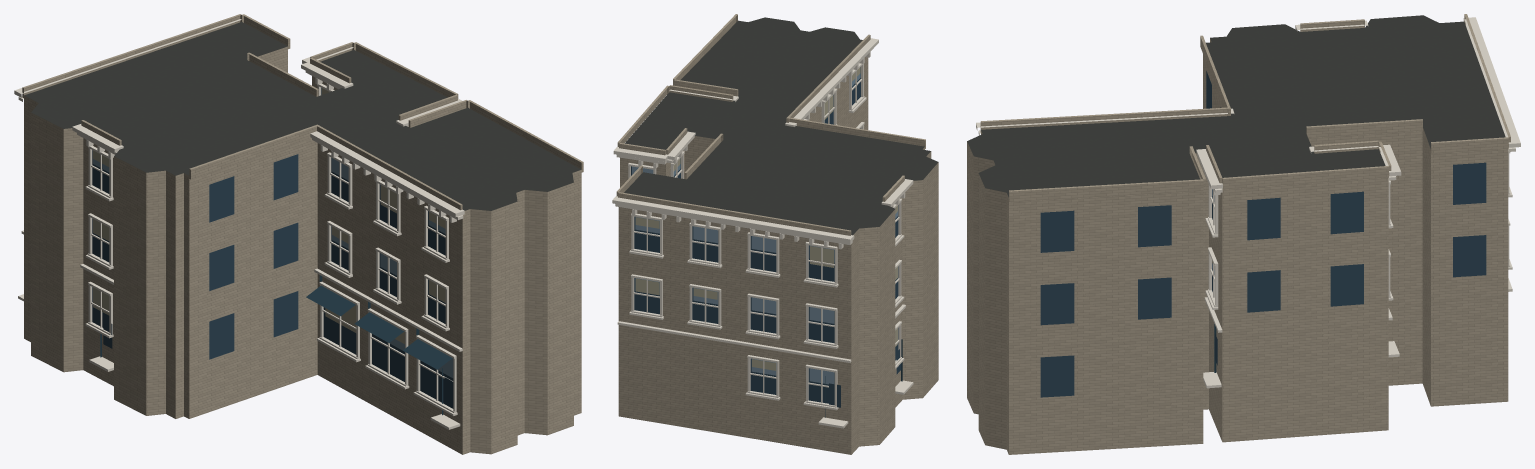
3 renders of one model, left to right at view 1: azimuth 30°, elevation 25°; view 2: azimuth 150°, elevation 25°; view 3: azimuth 270°, elevation 25°, orthographic. The views are drawn at different scales.
Parts seen in each view (by area): view 1: Footprint 0 / surface 2, Footprint 0 / surface 1, Cornices and window frames, Inset glazing, Facade bay volumes, Storefronts and doors, Interior blind variation, Sky reflection panels; view 2: Footprint 0 / surface 2, Footprint 0 / surface 1, Cornices and window frames, Facade bay volumes, Inset glazing, Sky reflection panels, Interior blind variation; view 3: Footprint 0 / surface 2, Footprint 0 / surface 1, Inset glazing, Facade bay volumes, Cornices and window frames.
Boxes of the visible parts, x1=… form: Footprint 0 / surface 2: x1=24, y1=46, x2=581, y2=454; Footprint 0 / surface 1: x1=24, y1=22, x2=581, y2=210; Cornices and window frames: x1=14, y1=19, x2=464, y2=429; Inset glazing: x1=92, y1=88, x2=453, y2=408; Facade bay volumes: x1=22, y1=14, x2=583, y2=210; Storefronts and doors: x1=100, y1=275, x2=452, y2=415; Interior blind variation: x1=93, y1=88, x2=445, y2=344; Sky reflection panels: x1=93, y1=158, x2=453, y2=377; Footprint 0 / surface 2: x1=618, y1=57, x2=938, y2=454; Footprint 0 / surface 1: x1=624, y1=17, x2=938, y2=235; Cornices and window frames: x1=612, y1=38, x2=913, y2=428; Facade bay volumes: x1=616, y1=14, x2=925, y2=235; Inset glazing: x1=631, y1=67, x2=901, y2=407; Sky reflection panels: x1=632, y1=73, x2=897, y2=384; Interior blind variation: x1=635, y1=67, x2=897, y2=370; Footprint 0 / surface 2: x1=967, y1=38, x2=1508, y2=454; Footprint 0 / surface 1: x1=967, y1=15, x2=1505, y2=197; Inset glazing: x1=1040, y1=71, x2=1486, y2=397; Facade bay volumes: x1=980, y1=14, x2=1510, y2=202; Cornices and window frames: x1=976, y1=17, x2=1520, y2=388.
Size of the model in its own units: 18.63 by 12.5 by 23.72.
